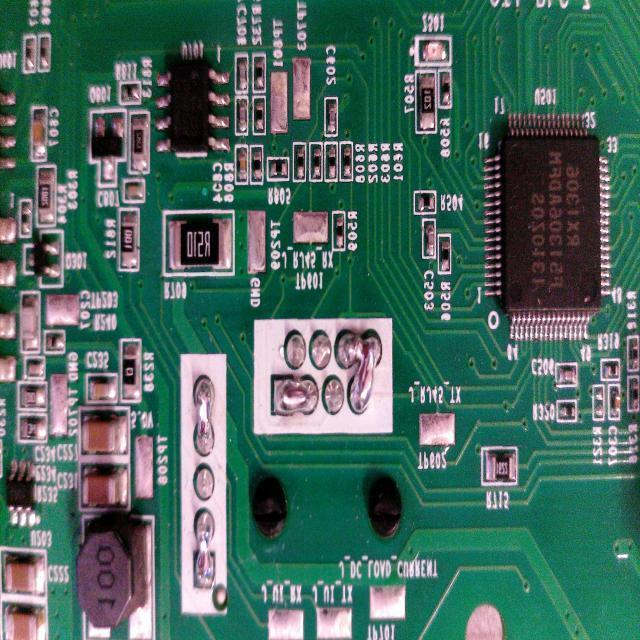Soldering shorted: (337, 325, 384, 420), (270, 370, 319, 419), (194, 506, 218, 592), (193, 372, 216, 458)
